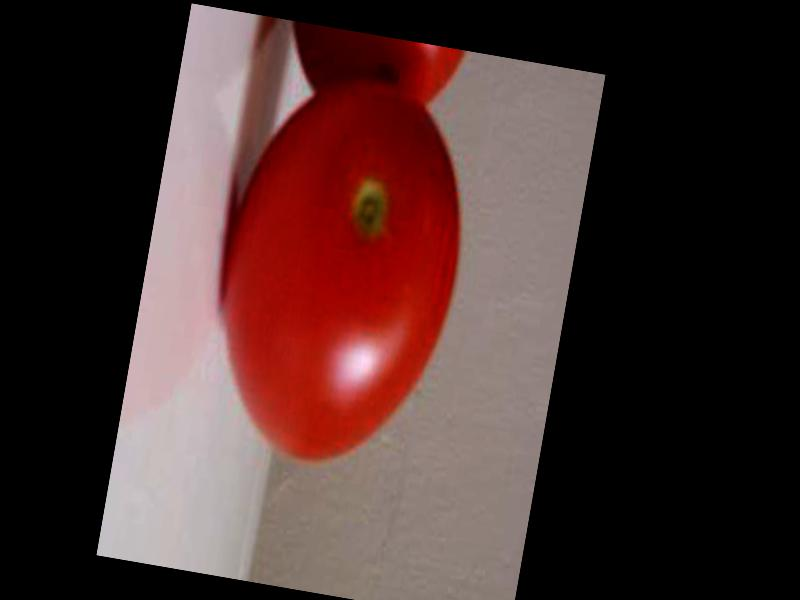Tomato: (197, 65, 484, 480)
